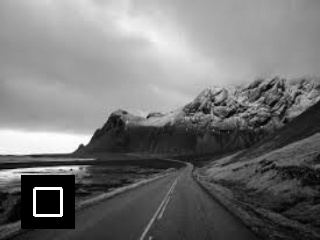square: (21, 174, 74, 230)
